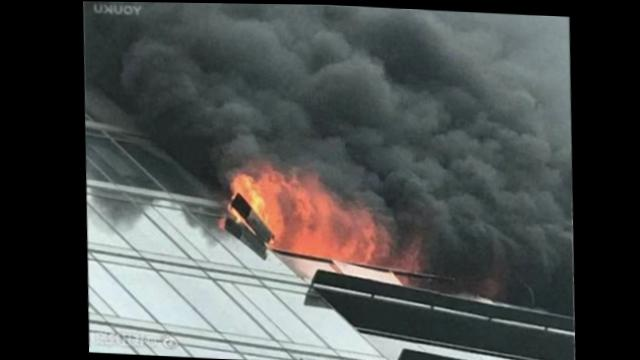fire: (278, 170, 341, 258), (338, 204, 372, 262), (257, 166, 284, 228), (243, 177, 258, 207), (229, 174, 245, 194)
